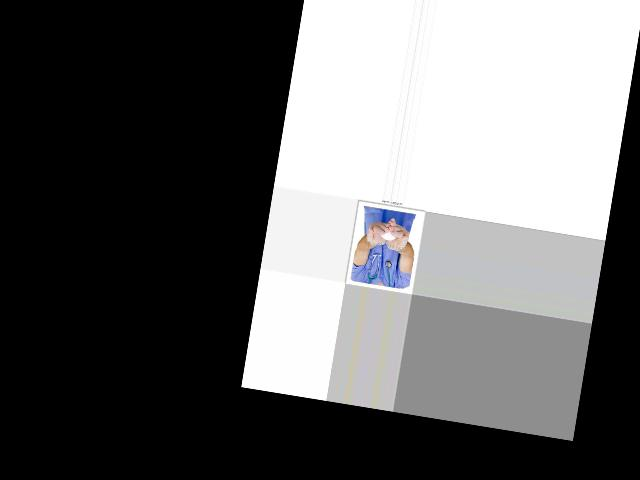egg: (379, 229, 396, 241)
